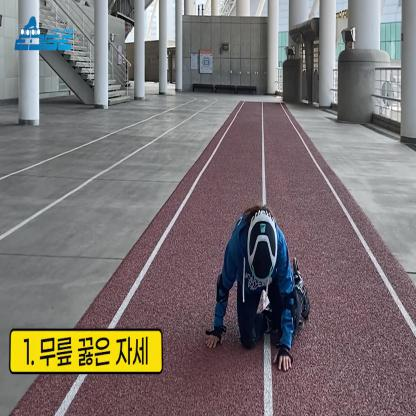Fall_Down: (207, 209, 312, 374)
